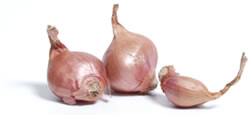onion: (100, 1, 159, 95), (157, 50, 249, 110), (45, 23, 108, 106)
